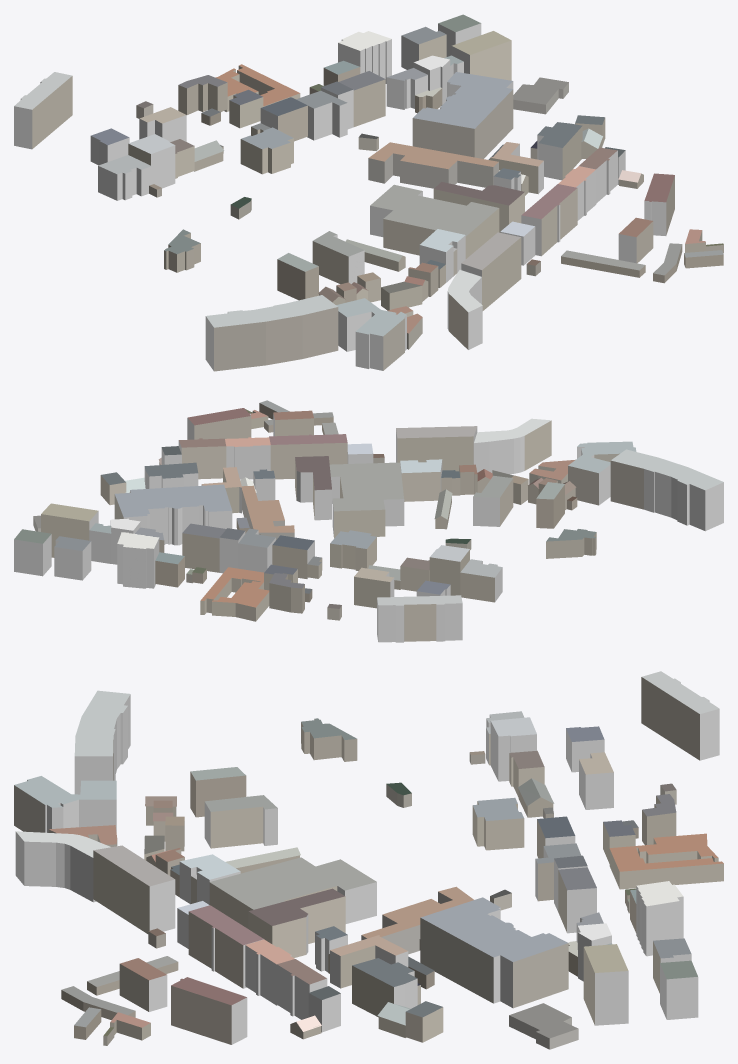
The picture shows the model from 3 angles, top to bottom: view 1: azimuth 30°, elevation 25°; view 2: azimuth 150°, elevation 25°; view 3: azimuth 270°, elevation 25°; orthographic projection. The views are drawn at different scales.
Visible parts, largest first — view 1: tuile; view 2: tuile; view 3: tuile.
Boxes of the visible parts, x1=… form: tuile: x1=14, y1=14, x2=723, y2=371; tuile: x1=14, y1=400, x2=723, y2=642; tuile: x1=14, y1=671, x2=723, y2=1049.
Size of the model in its own units: 300 by 46.21 by 286.
